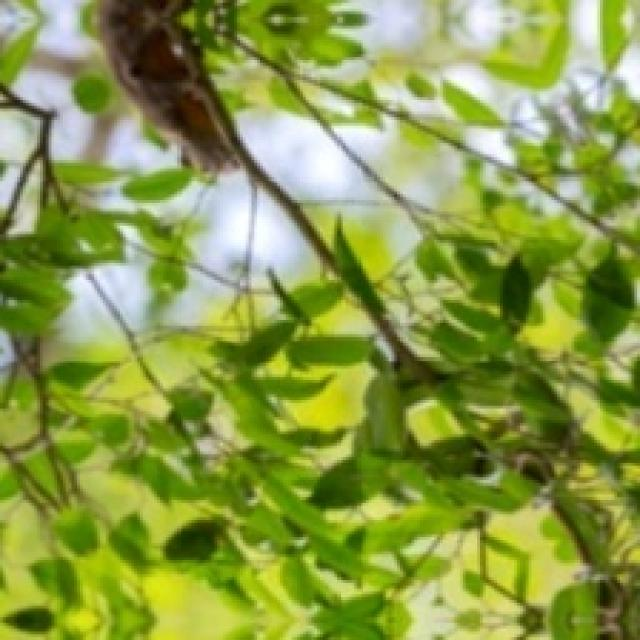red-tailed green ratsnake: (97, 0, 234, 171)
